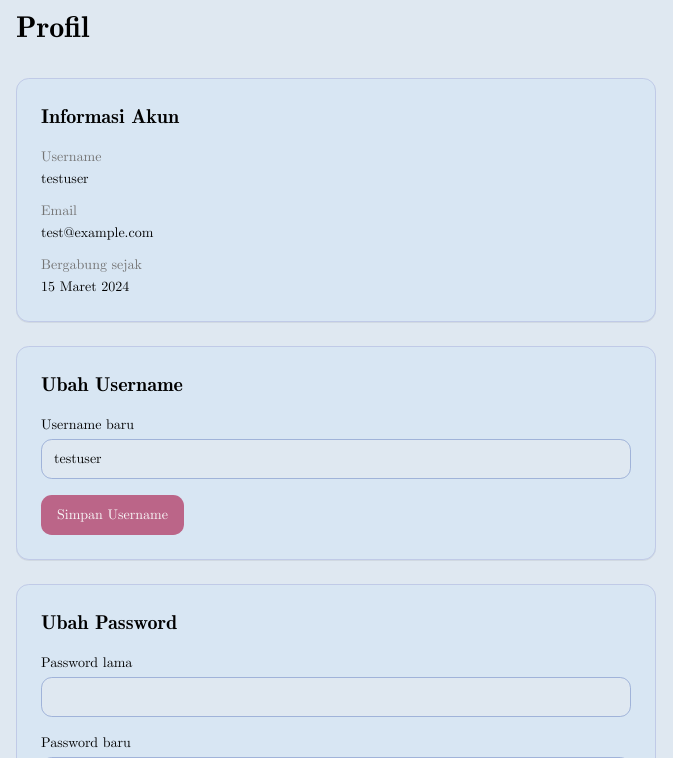
Test case: ProfilePage › ubah username › menampilkan error 409 ketika username sudah digunakan
The width and height of the screenshot is (673, 758).
Replace the text in the field labelled "Username baru" with "takenuser": (336, 459) [41,439,631,479]
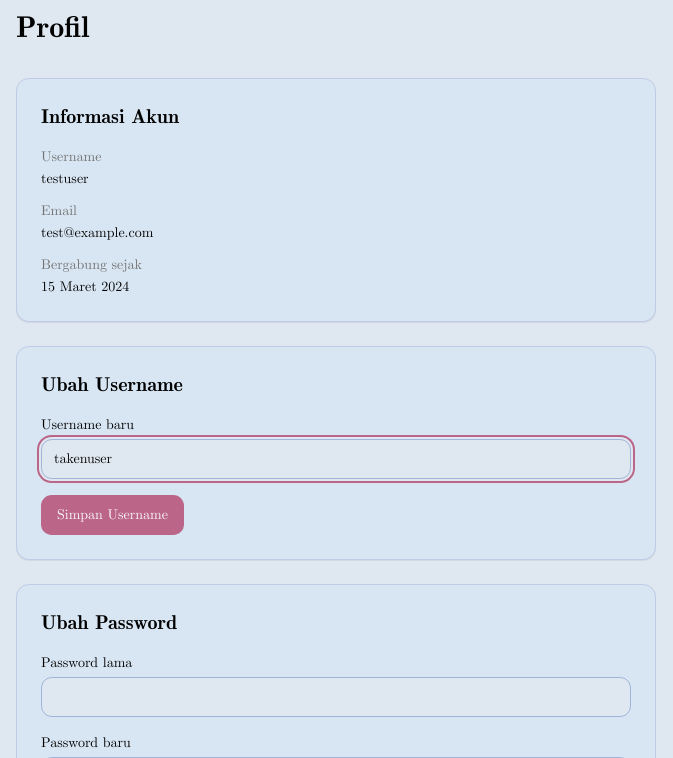
Click the button "Simpan Username": (112, 515) [41,495,184,535]
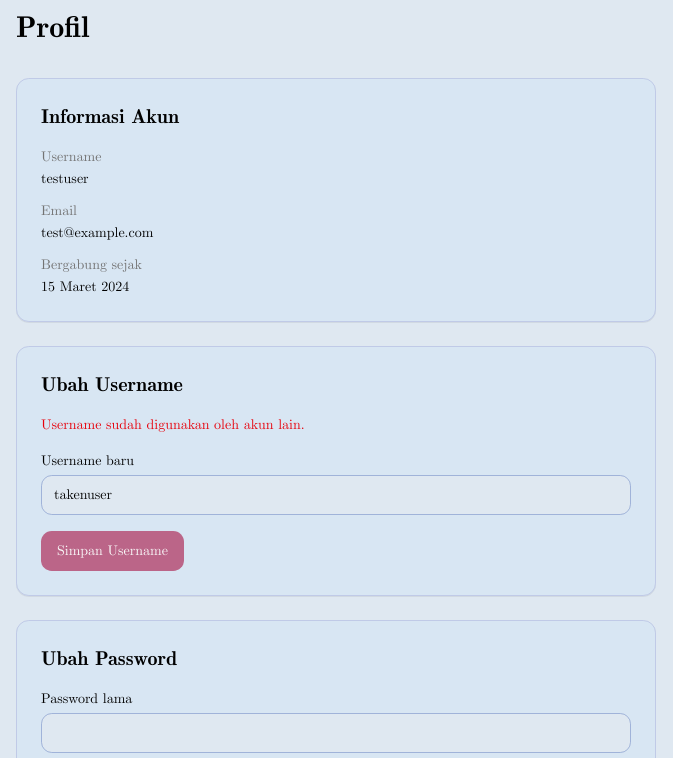
Check: the text "Username sudah digunakan oleh akun lain." is shown, box [41,418,305,432]
